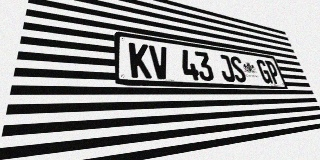3: (194, 51, 215, 81)
4: (179, 49, 200, 80)
G: (255, 59, 273, 84)
J: (217, 54, 236, 82)
K: (129, 42, 152, 78)
P: (265, 60, 282, 84)
S: (229, 56, 248, 82)
V: (149, 45, 171, 79)
